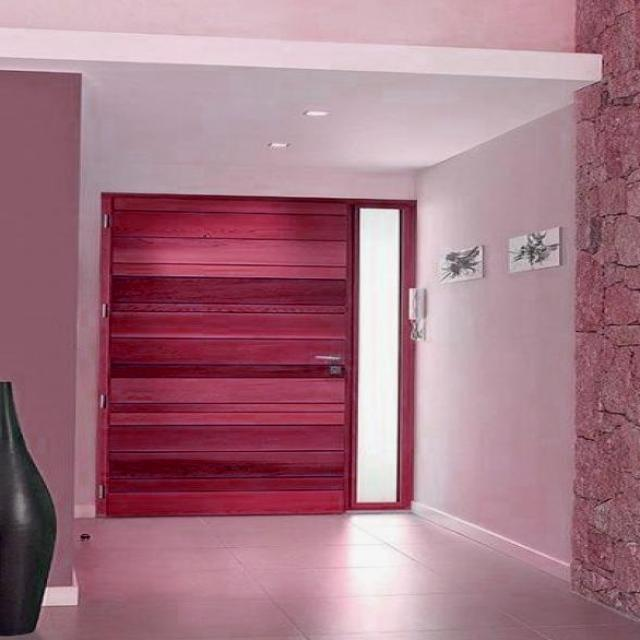door: (99, 193, 352, 508)
